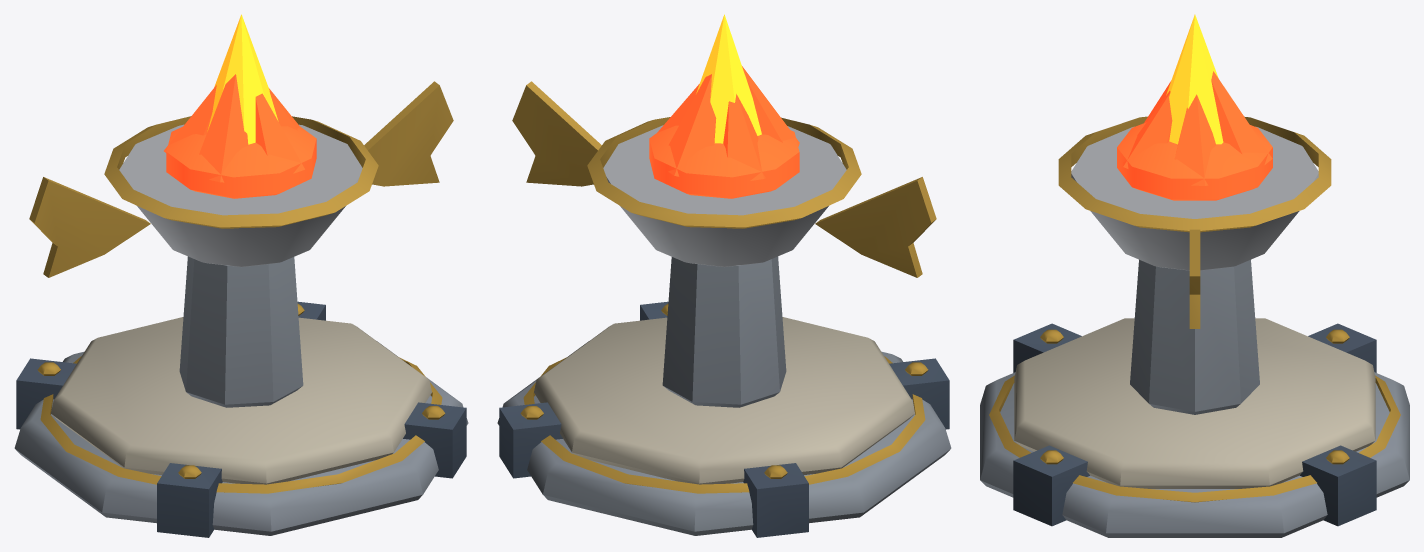
Rendered from alliance_4.glb.
3 renders of one model, left to right at view 1: azimuth 30°, elevation 25°; view 2: azimuth 150°, elevation 25°; view 3: azimuth 270°, elevation 25°, orthographic.
Visible parts, largest first — view 1: alliance_4_peint, Flamme_lueur, FeuMilieu; view 2: alliance_4_peint, Flamme_lueur, FeuMilieu; view 3: alliance_4_peint, Flamme_lueur, FeuMilieu.
Part boxes in pixels (<box>): alliance_4_peint: <box>14,81,468,537</box>; Flamme_lueur: <box>164,74,316,198</box>; FeuMilieu: <box>207,14,278,144</box>; alliance_4_peint: <box>497,81,951,537</box>; Flamme_lueur: <box>649,66,799,198</box>; FeuMilieu: <box>696,14,761,143</box>; alliance_4_peint: <box>980,116,1409,537</box>; Flamme_lueur: <box>1117,71,1272,200</box>; FeuMilieu: <box>1166,14,1223,144</box>.
Bounding box in the file's own units: 0.9 × 0.88 × 0.7868.
